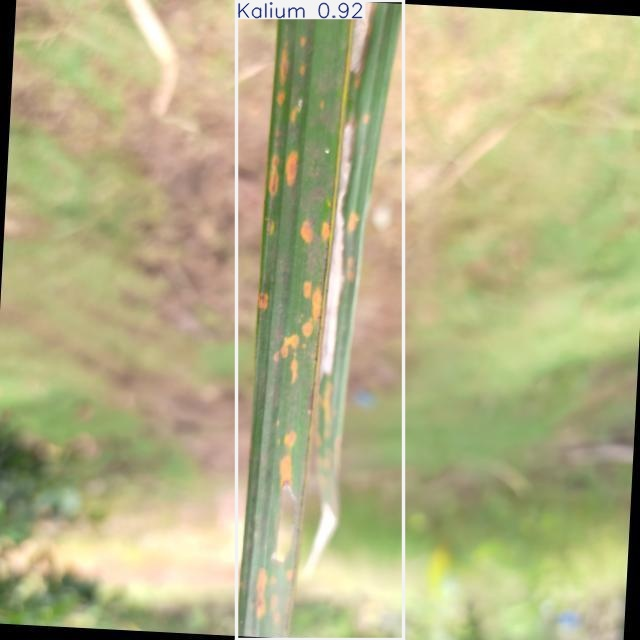Kalium: (237, 1, 404, 639)
